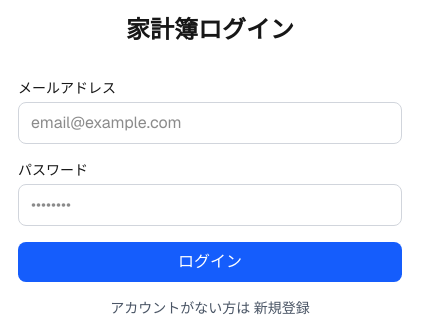
Test case: LoginPage › disables button while loading
This screenshot has width=421, height=332.
Type "test@example.com" into the field labelled "メールアドレス" at x=210, y=123, box [18,102,402,144]
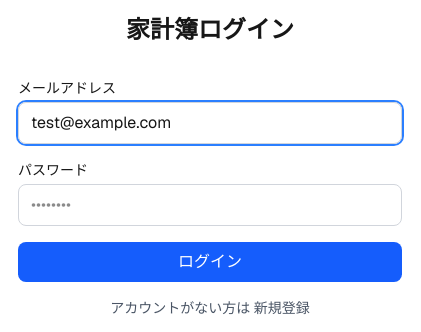
Type "password123" into the password field labelled "パスワード" at x=210, y=205, box [18,184,402,226]
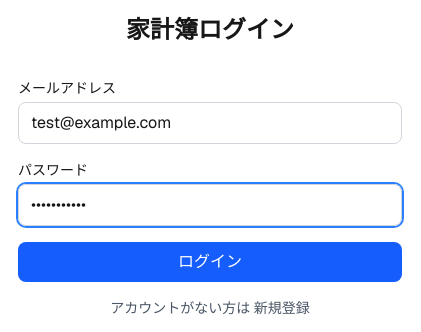
Click the button "ログイン" at x=210, y=262, box [18,242,402,282]
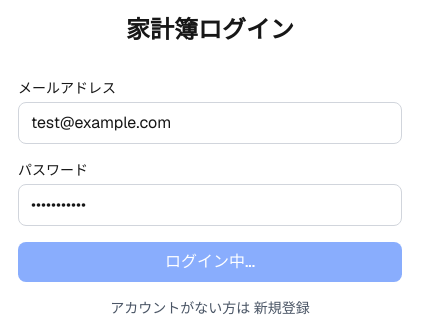
Now the button "ログイン中..." is disabled, box [18,242,402,282]
